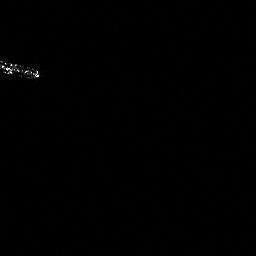ship: (1, 55, 53, 85)
